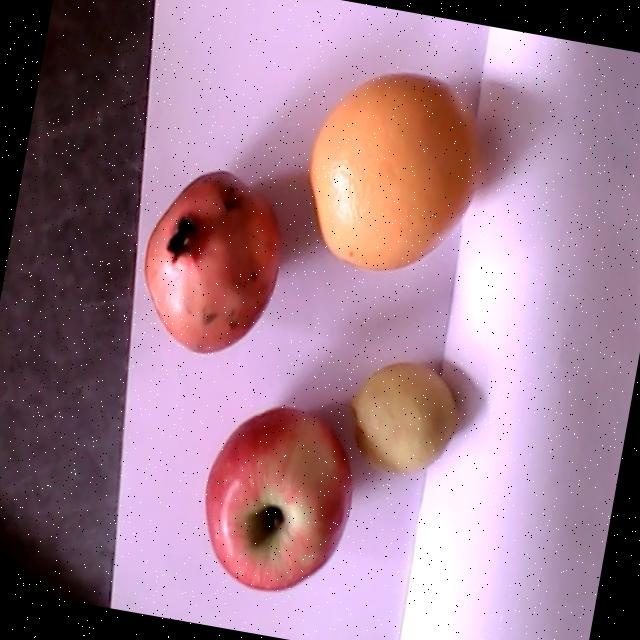apple: (204, 405, 352, 590)
lemon: (348, 360, 462, 474)
orange: (309, 71, 480, 271)
pomegranate: (144, 170, 280, 353)
